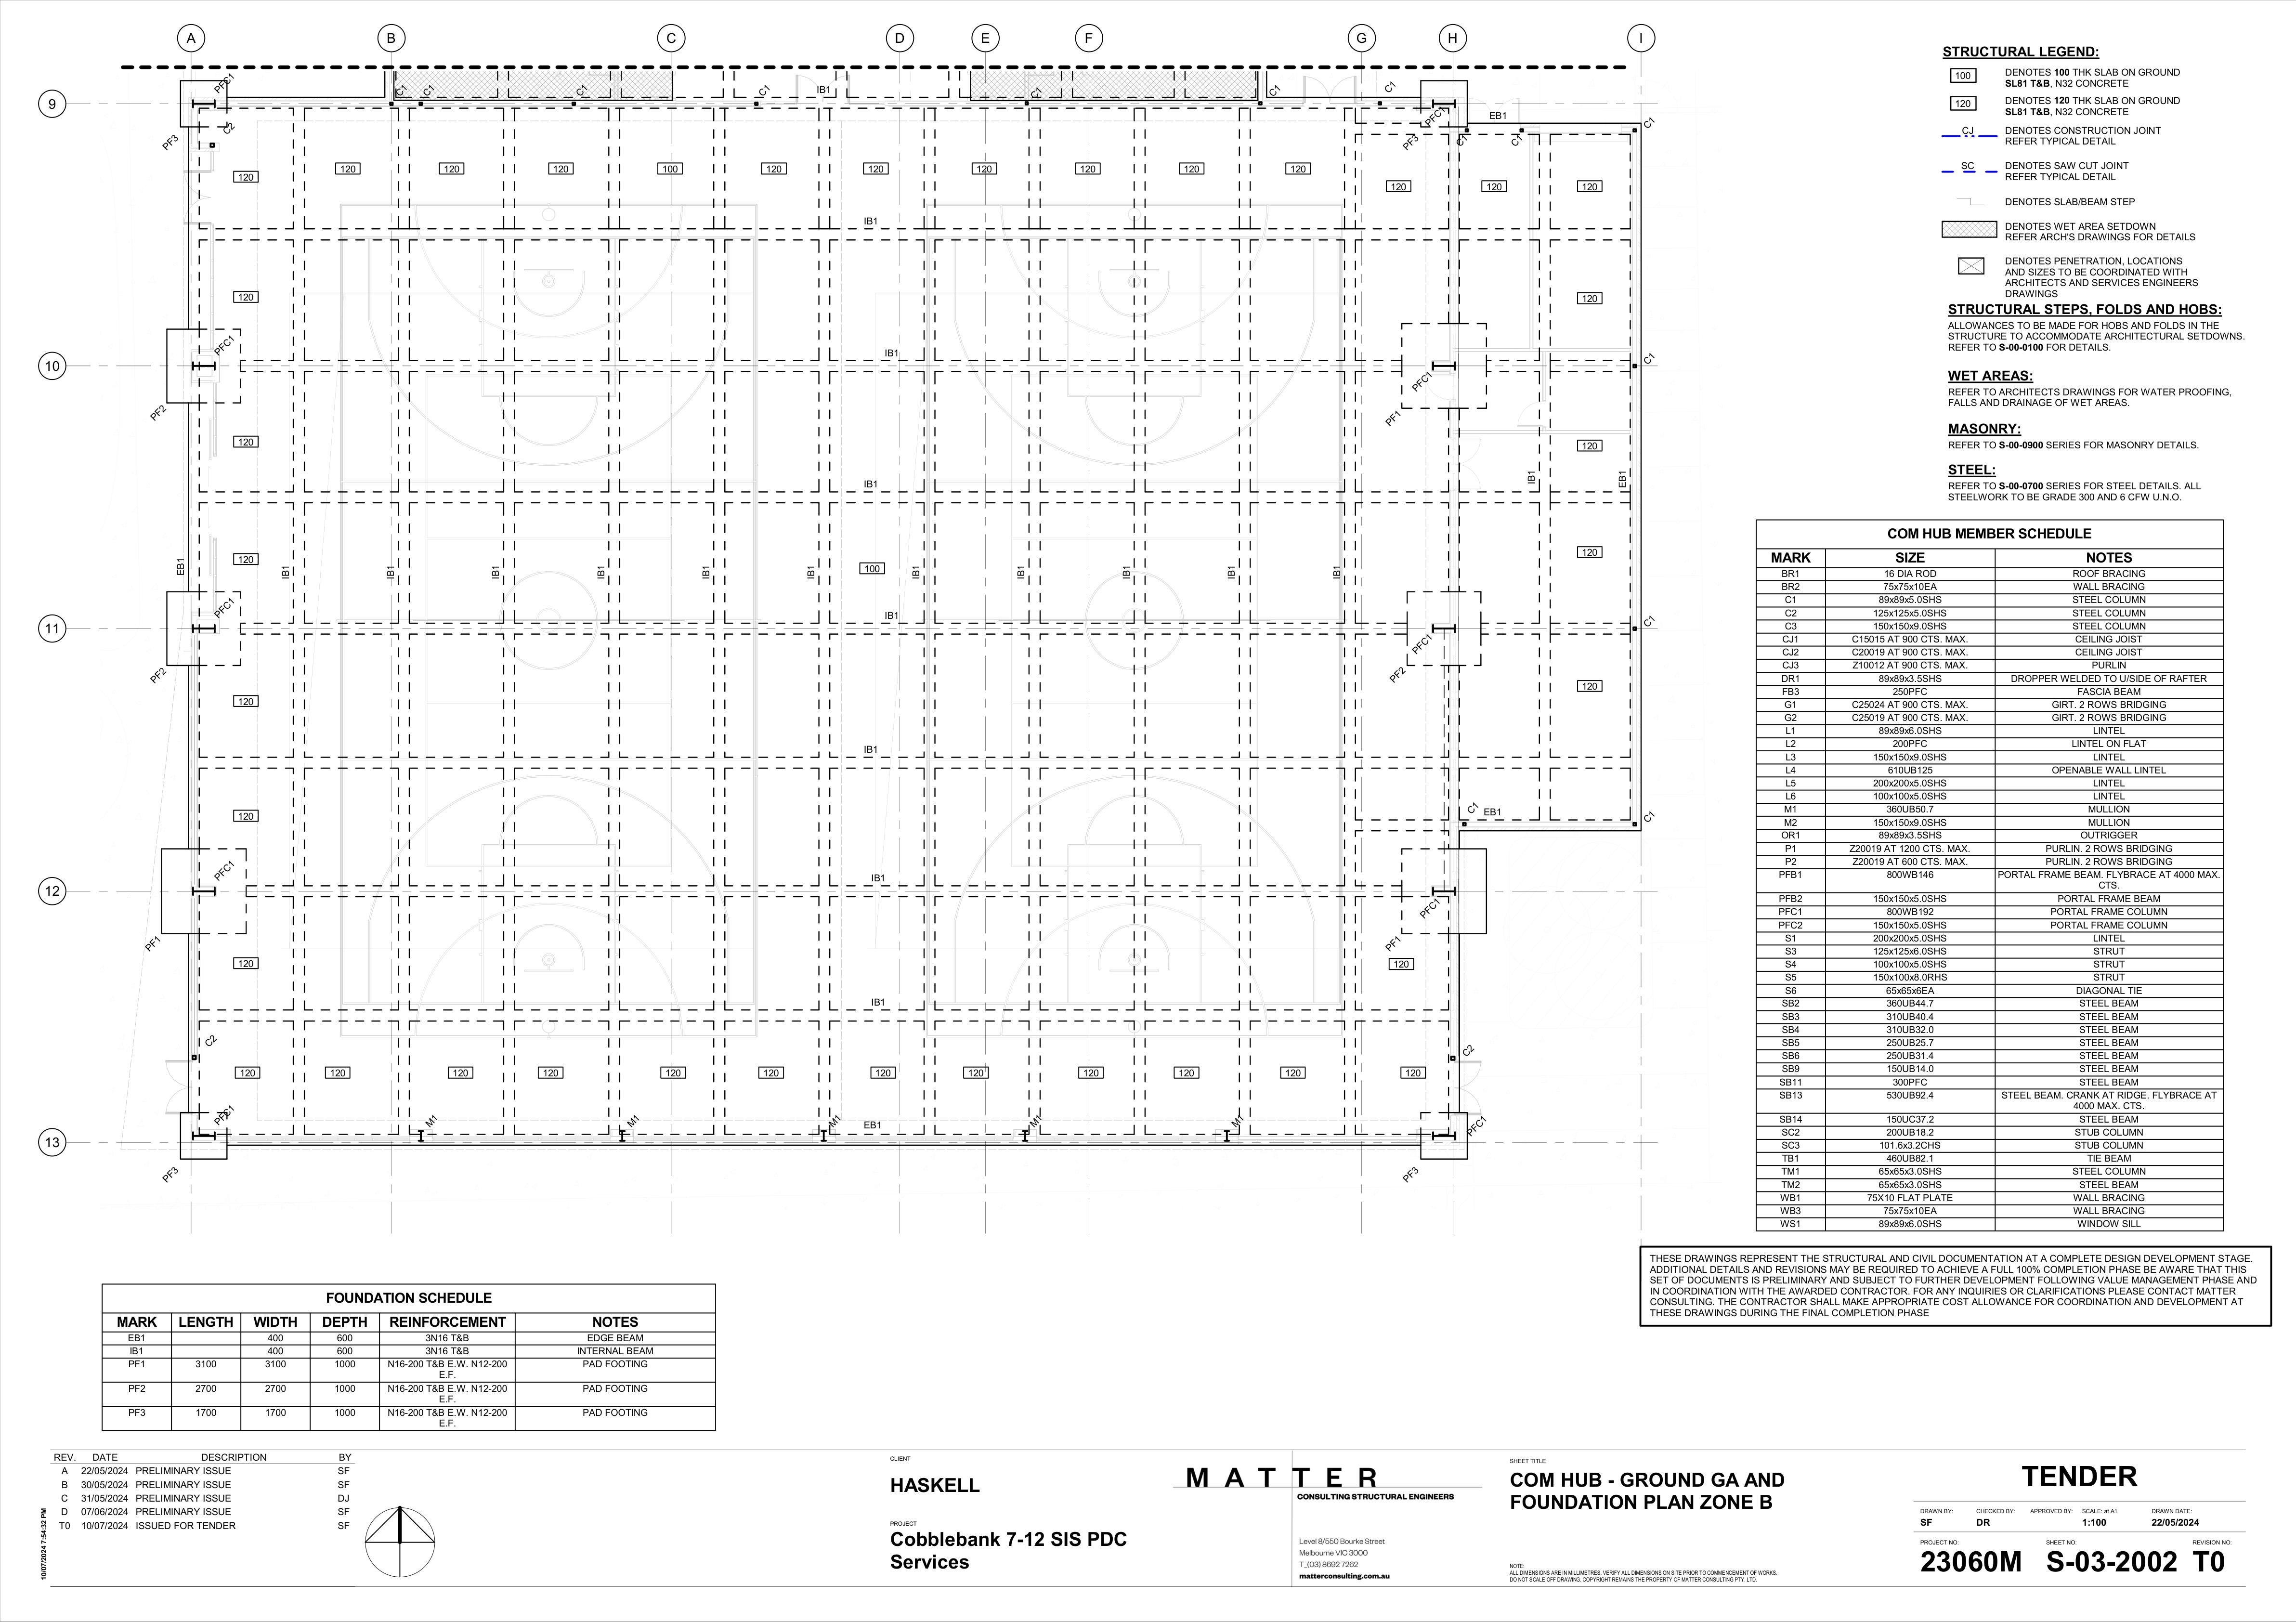C1: (1641, 351, 1664, 374), (1506, 128, 1525, 149), (1641, 609, 1662, 628), (755, 83, 774, 100), (418, 83, 439, 98), (1647, 809, 1662, 830), (1381, 79, 1399, 97), (1453, 135, 1473, 151), (1645, 114, 1659, 135), (1029, 84, 1046, 100), (576, 83, 592, 98), (1464, 799, 1480, 815), (1269, 83, 1283, 100), (393, 83, 409, 97)
C2: (221, 116, 239, 137), (202, 1034, 223, 1050), (1459, 1039, 1476, 1057)
EB1: (857, 1115, 890, 1134), (1611, 463, 1629, 492), (1487, 105, 1513, 123), (172, 555, 188, 581), (1482, 807, 1508, 820)
IB1: (592, 560, 609, 585), (860, 741, 885, 758), (867, 865, 886, 886), (860, 211, 883, 228), (802, 563, 820, 586), (860, 476, 885, 492), (484, 560, 502, 581), (867, 994, 888, 1011), (879, 344, 902, 360), (1329, 560, 1345, 583), (1520, 467, 1538, 486), (1013, 560, 1027, 583), (697, 562, 713, 581), (384, 560, 398, 581), (811, 84, 834, 97), (885, 606, 902, 621), (908, 562, 922, 581), (279, 562, 293, 581), (1120, 562, 1132, 581), (1225, 567, 1239, 581)
M1: (1227, 1111, 1252, 1130), (427, 1111, 446, 1130), (825, 1113, 846, 1130), (627, 1113, 644, 1129), (1030, 1113, 1046, 1129)
PF1: (140, 930, 161, 951), (1383, 930, 1404, 951), (1387, 411, 1404, 427)
PF2: (144, 665, 170, 686), (1383, 664, 1410, 683), (146, 405, 170, 421)
PF3: (158, 1164, 183, 1187), (1401, 1164, 1424, 1188), (1397, 132, 1422, 151), (160, 132, 181, 153)
PFC1: (1415, 897, 1446, 918), (1408, 370, 1436, 393), (211, 597, 239, 620), (212, 858, 240, 881), (1469, 1113, 1492, 1141), (1410, 632, 1438, 655), (214, 334, 237, 360), (1422, 105, 1450, 126), (211, 70, 235, 93), (211, 1104, 239, 1123)
